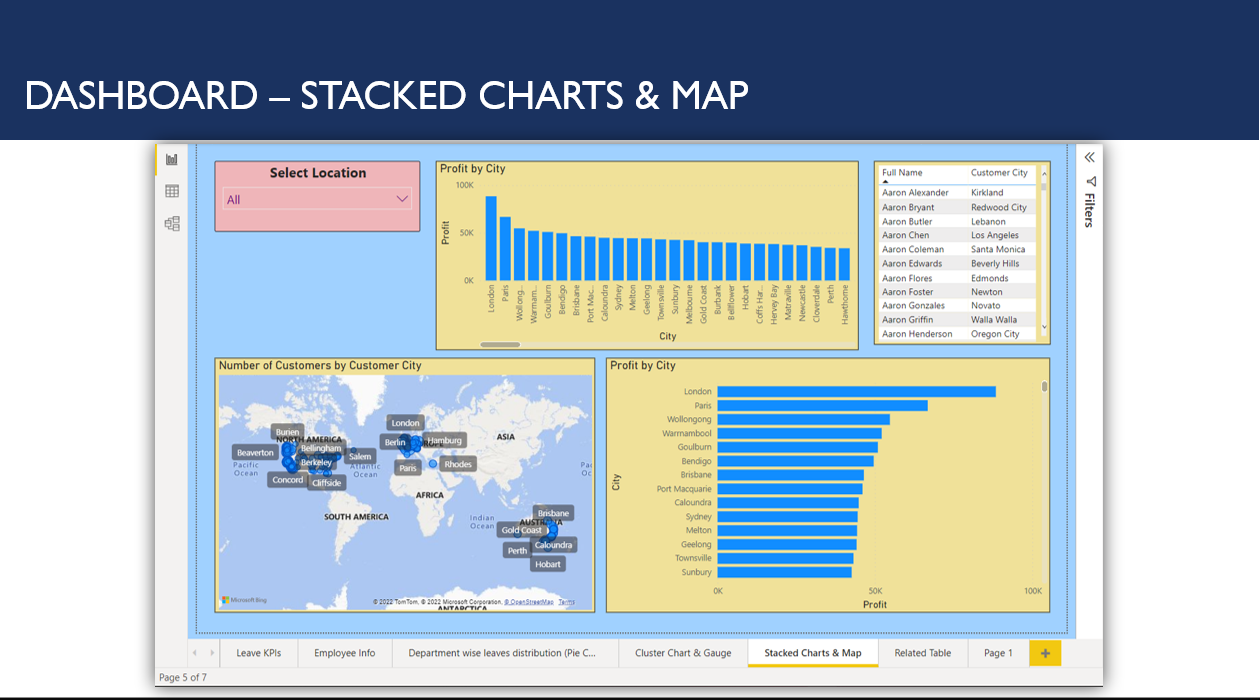

This screenshot's page, from the dashboard's own definition file:
{"tool":"powerbi","page":{"name":"Stacked Charts & Map","canvas":[1280,720],"ordinal":4},"visuals":[{"type":"slicer","title":"Select Location","fields":{"Values":["DimGeography.City"]},"box":[26.4,26.4,302.8,104.4],"z":0},{"type":"tableEx","fields":{"Values":["Dimcustomer.Full Name","Dimcustomer.Customer City"]},"box":[996.4,26.1,259.8,270.4],"z":1000},{"type":"map","fields":{"Category":["Dimcustomer.Customer City"],"Size":["Count(Dimcustomer.Full Name)"]},"box":[26.1,315.5,559.9,374.8],"z":2000},{"type":"barChart","fields":{"Category":["DimGeography.City"],"Y":["Sum(Sheet1.Profit)"]},"box":[602.6,315.5,653.6,374.8],"z":3000},{"type":"columnChart","fields":{"Category":["DimGeography.City"],"Y":["Sum(Sheet1.Profit)"]},"box":[351.1,26.1,622.7,278.7],"z":4000}]}

Visuals, with their boxes on the page's 1280x720 design canvas (x1, y1, x2, y2). These are canvas units, not pixel positions in the 1260x700 screenshot, which may show the page scaled, cropped or inside an application window:
"Select Location" slicer: BBox(26, 26, 329, 131)
tableEx - Dimcustomer.Full Name x Dimcustomer.Customer City: BBox(996, 26, 1256, 296)
map - Dimcustomer.Customer City x Count(Dimcustomer.Full Name): BBox(26, 316, 586, 690)
barChart - DimGeography.City x Sum(Sheet1.Profit): BBox(603, 316, 1256, 690)
columnChart - DimGeography.City x Sum(Sheet1.Profit): BBox(351, 26, 974, 305)
